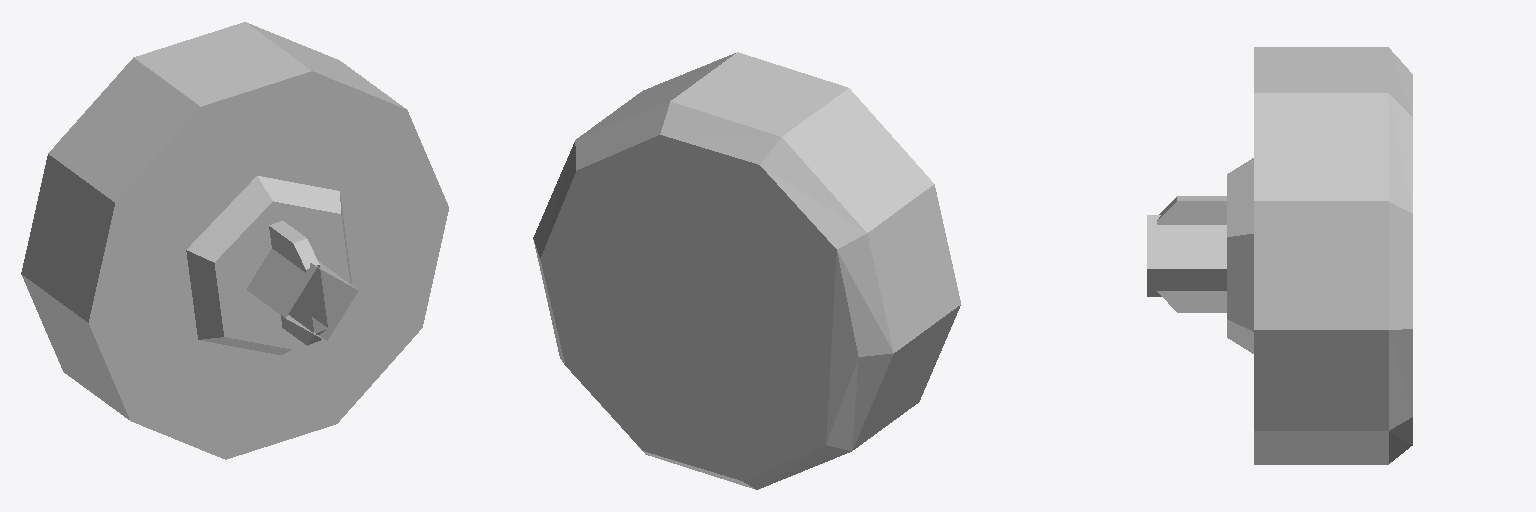
File: wheel225.obj
The picture shows the model from 3 angles: view 1: azimuth 30°, elevation 25°; view 2: azimuth 150°, elevation 25°; view 3: azimuth 270°, elevation 25°; orthographic projection.
Visible parts, largest first — view 1: wheel_low_textures; view 2: wheel_low_textures; view 3: wheel_low_textures.
Boxes of the visible parts, <box> form: wheel_low_textures: <box>21,22,448,459</box>; wheel_low_textures: <box>533,52,960,489</box>; wheel_low_textures: <box>1147,47,1412,464</box>.
Size of the model in its own units: 1.56 by 1.52 by 0.9907.